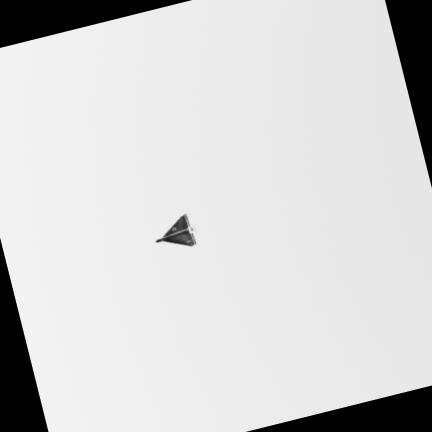Shahed: (155, 214, 195, 246)
